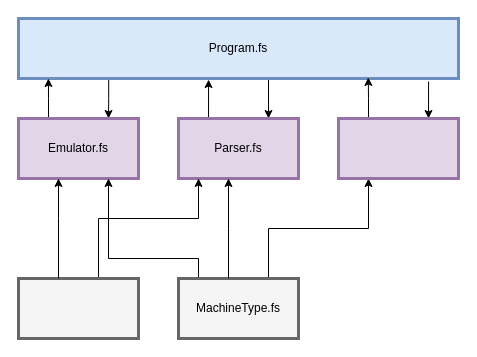
Some shapes in this 477 by 357 pixel diagram are drawn without their labels. Here are the shapes that lost their labels. From the top down, the centre of each, then its label:
the point at 398,148: GUI.fs
the point at 78,308: InstructionType.fs
